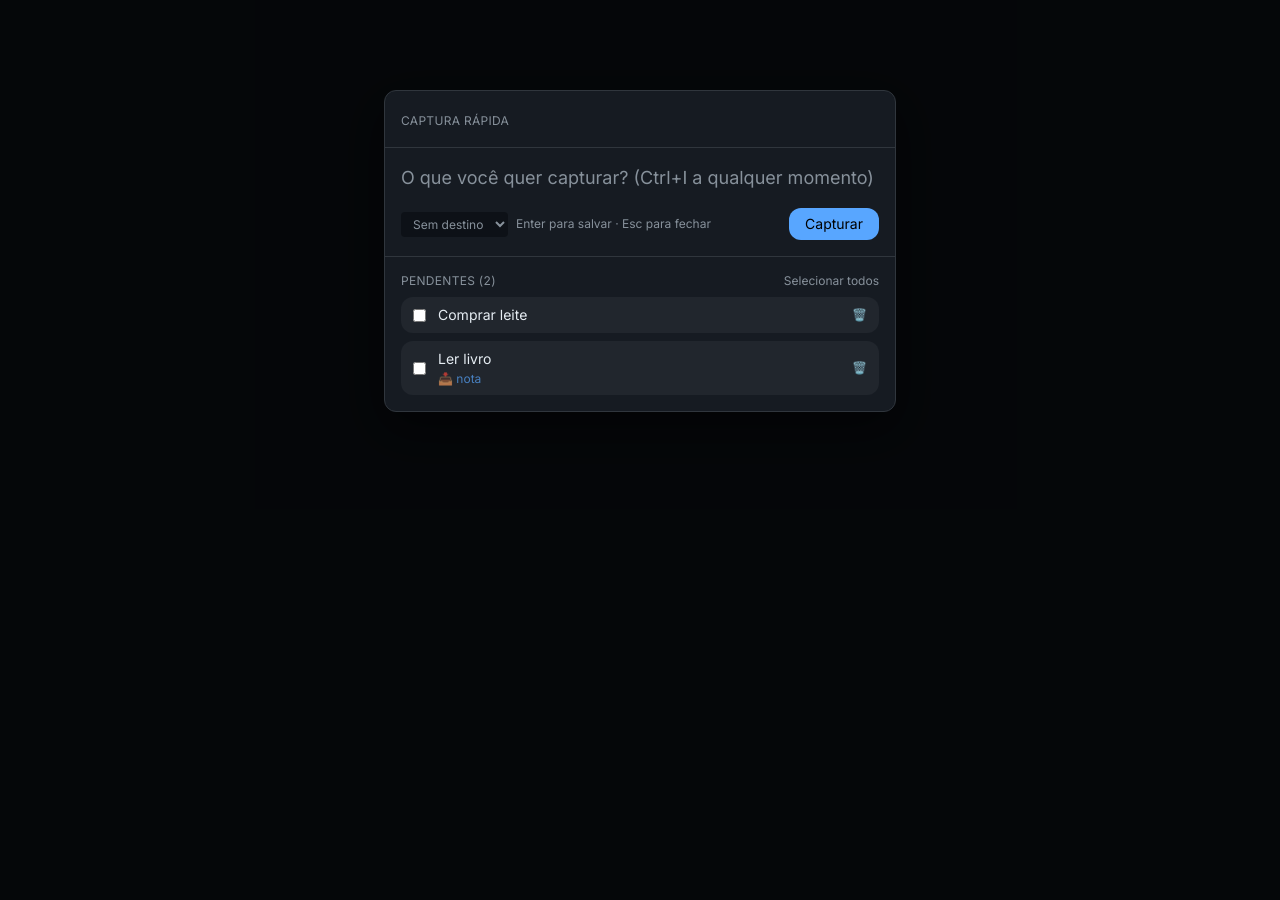
Test case: InboxModal › mostra ConfirmModal ao clicar em remover item
Expected: the text "Comprar leite" is shown, [438,305,527,325]
Click the button named "Remover item". click: point(860, 315)
box: [852,307,867,323]
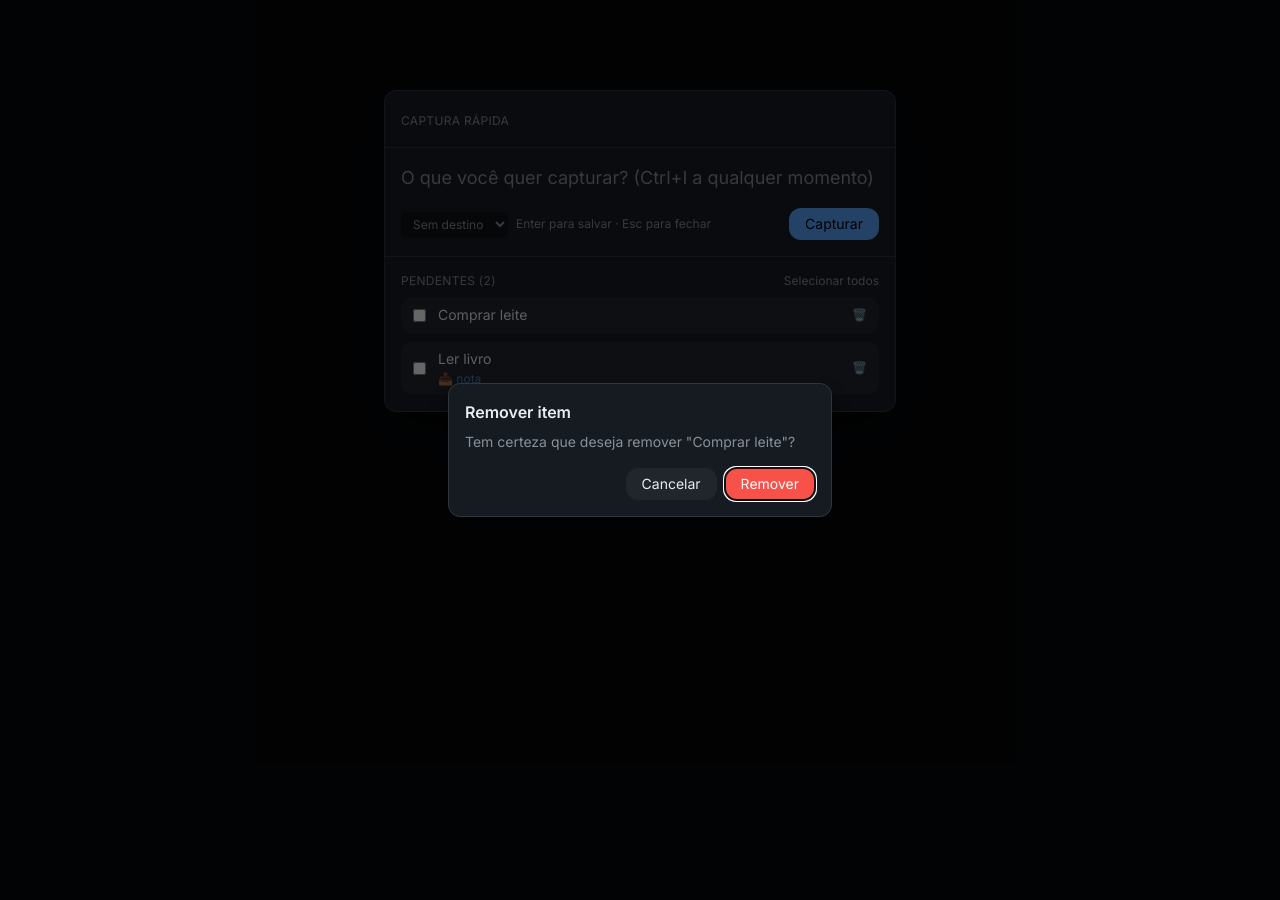
Expected: the heading "Remover item" is shown, [465,402,571,422]
